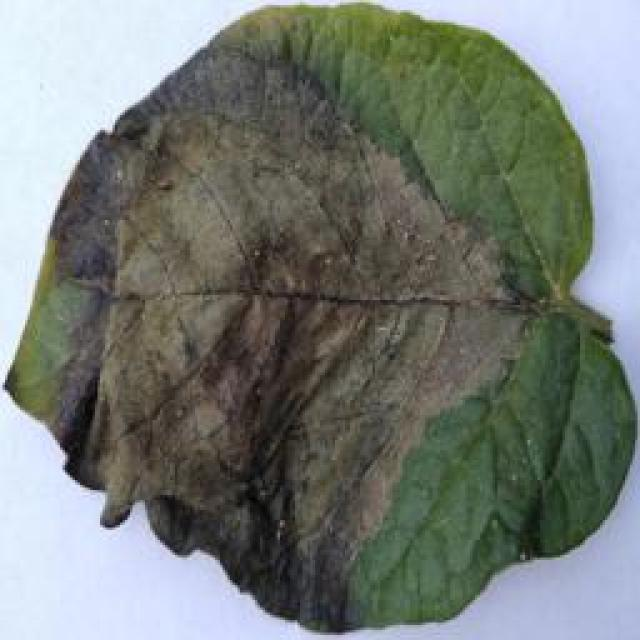Potato_Late_Blight: (6, 10, 631, 632)
